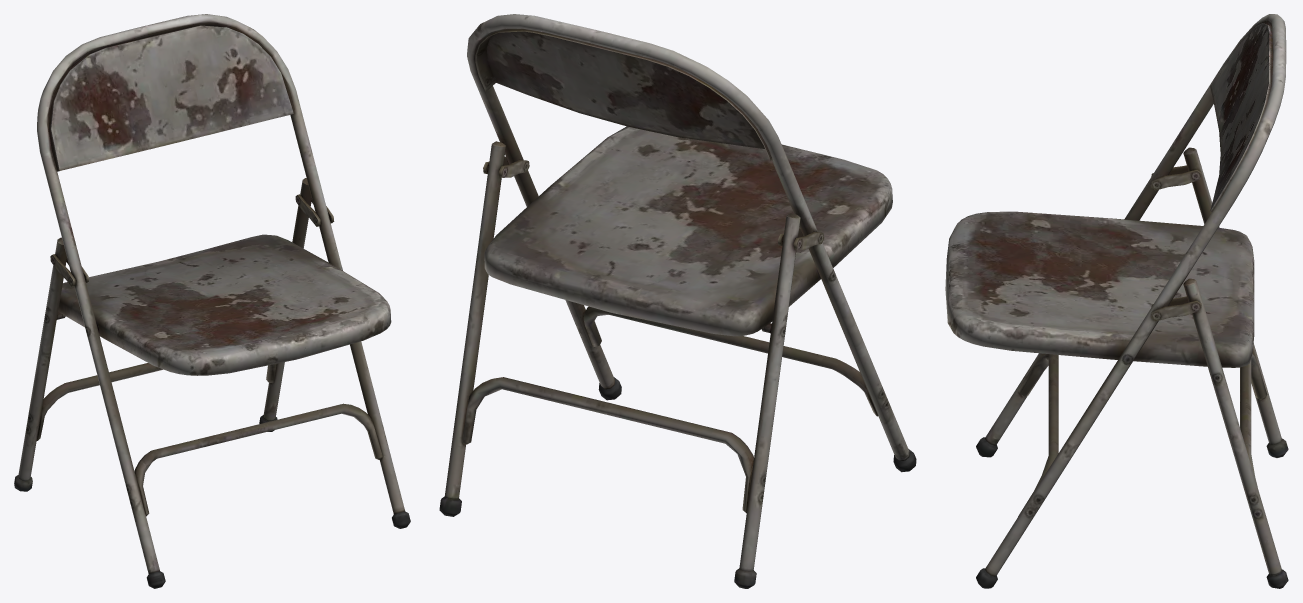
File: folding_chair_a_rusty_green.mountable.glb
The picture shows the model from 3 angles, left to right: view 1: azimuth 30°, elevation 25°; view 2: azimuth 150°, elevation 25°; view 3: azimuth 270°, elevation 25°; orthographic projection. The views are drawn at different scales.
Parts seen in each view (by area): view 1: folding_chair_a; view 2: folding_chair_a; view 3: folding_chair_a.
Boxes of the visible parts, x1,y1,x2,y2 form: folding_chair_a: (14,14,410,588); folding_chair_a: (439,14,916,588); folding_chair_a: (945,14,1288,588).
Size of the model in its own units: 0.5596 by 0.8886 by 0.5817.
1 material, 1 textured.
